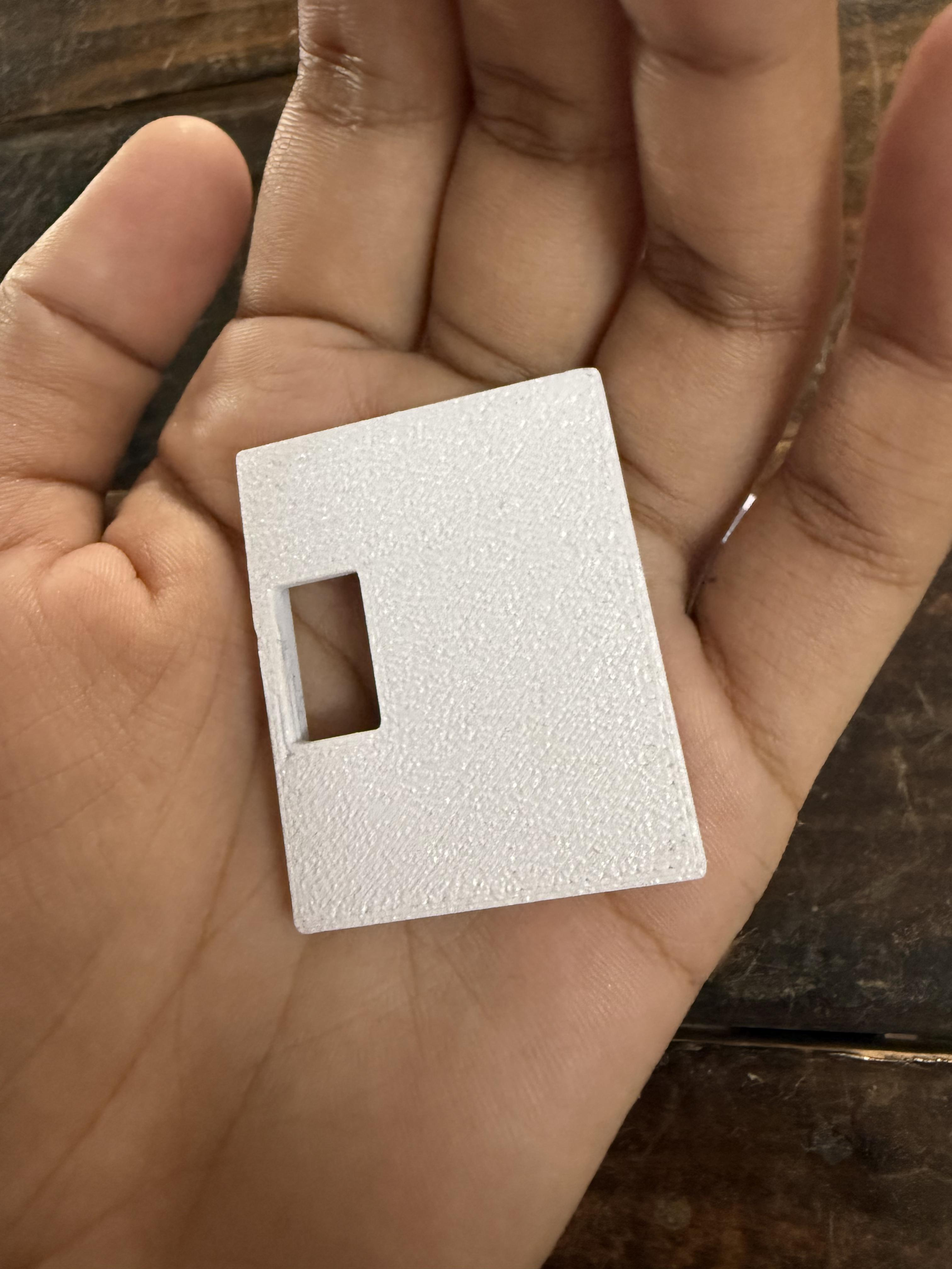enclosure: (235, 367, 707, 934)
